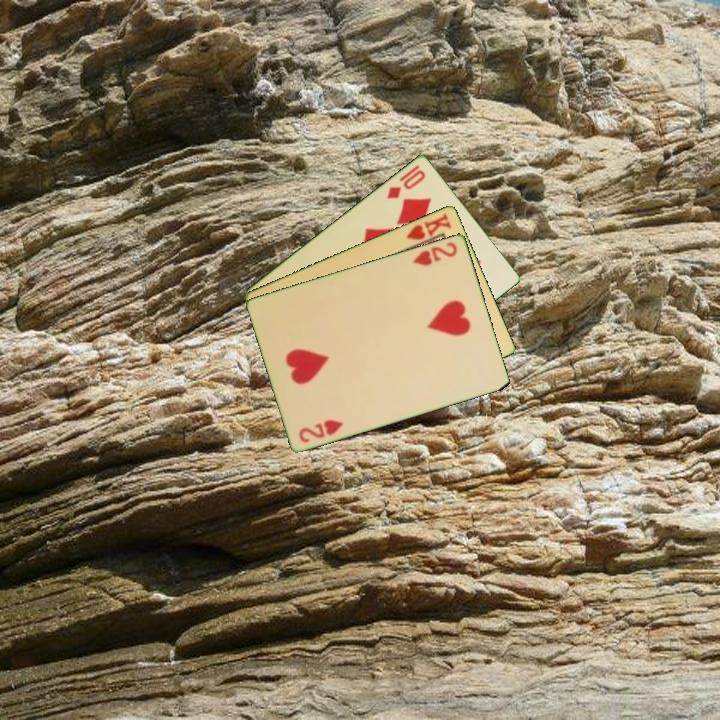10d: (383, 166, 429, 201)
2h: (409, 238, 460, 269), (295, 415, 346, 445)
Kh: (403, 209, 454, 251)
